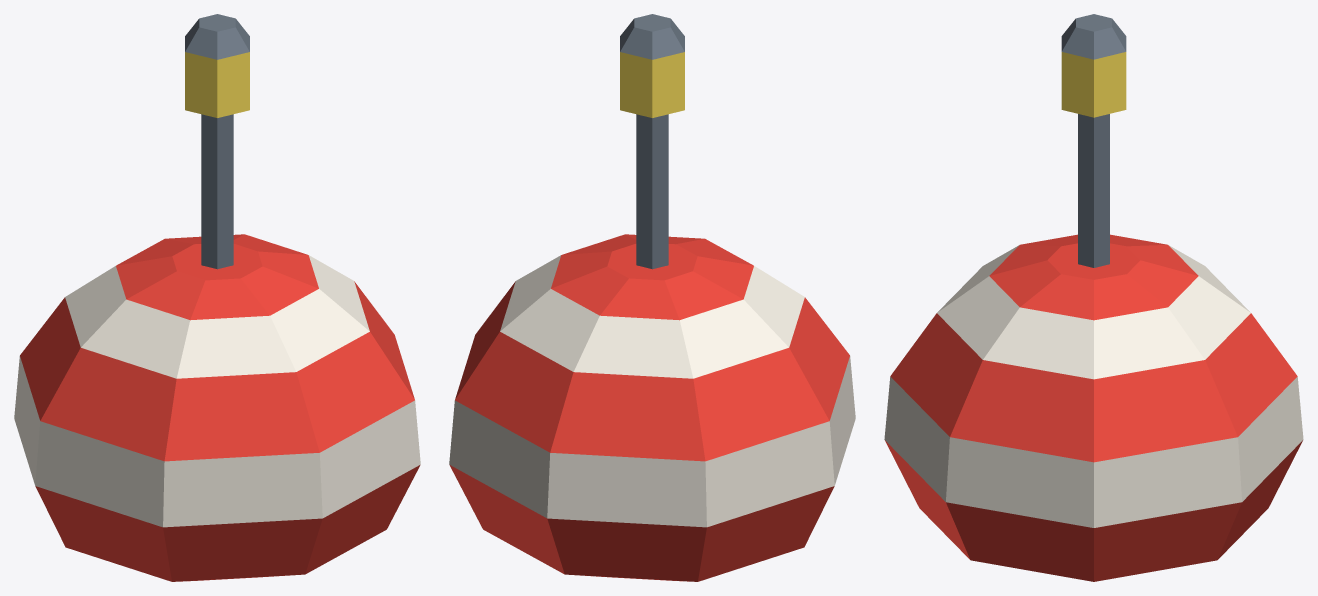
File: buoy.fbx
3 renders of one model, left to right at view 1: azimuth 30°, elevation 25°; view 2: azimuth 150°, elevation 25°; view 3: azimuth 270°, elevation 25°, orthographic.
Visible parts, largest first — view 1: buoy; view 2: buoy; view 3: buoy.
Part boxes in pixels (x1,y1,x2,y2): buoy: (14,14,420,581); buoy: (449,14,855,581); buoy: (884,14,1303,581).
Size of the model in its own units: 360 by 495 by 360.
1 material, 1 textured.
